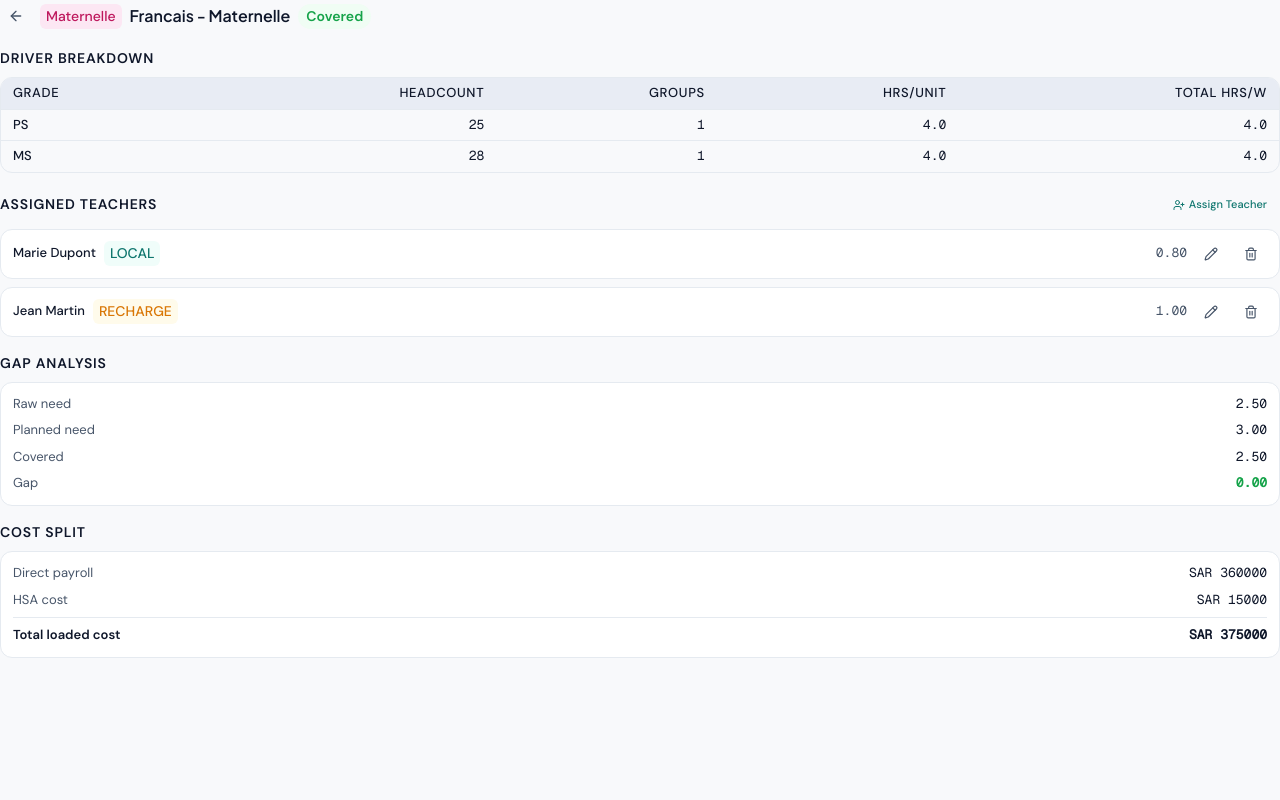
Test: StaffingInspectorContent › Assignment management (AC-15) › shows confirmation dialog when delete button is clicked
Click the button named "delete" next to "0.80": (1251, 254) [1235, 238, 1267, 270]
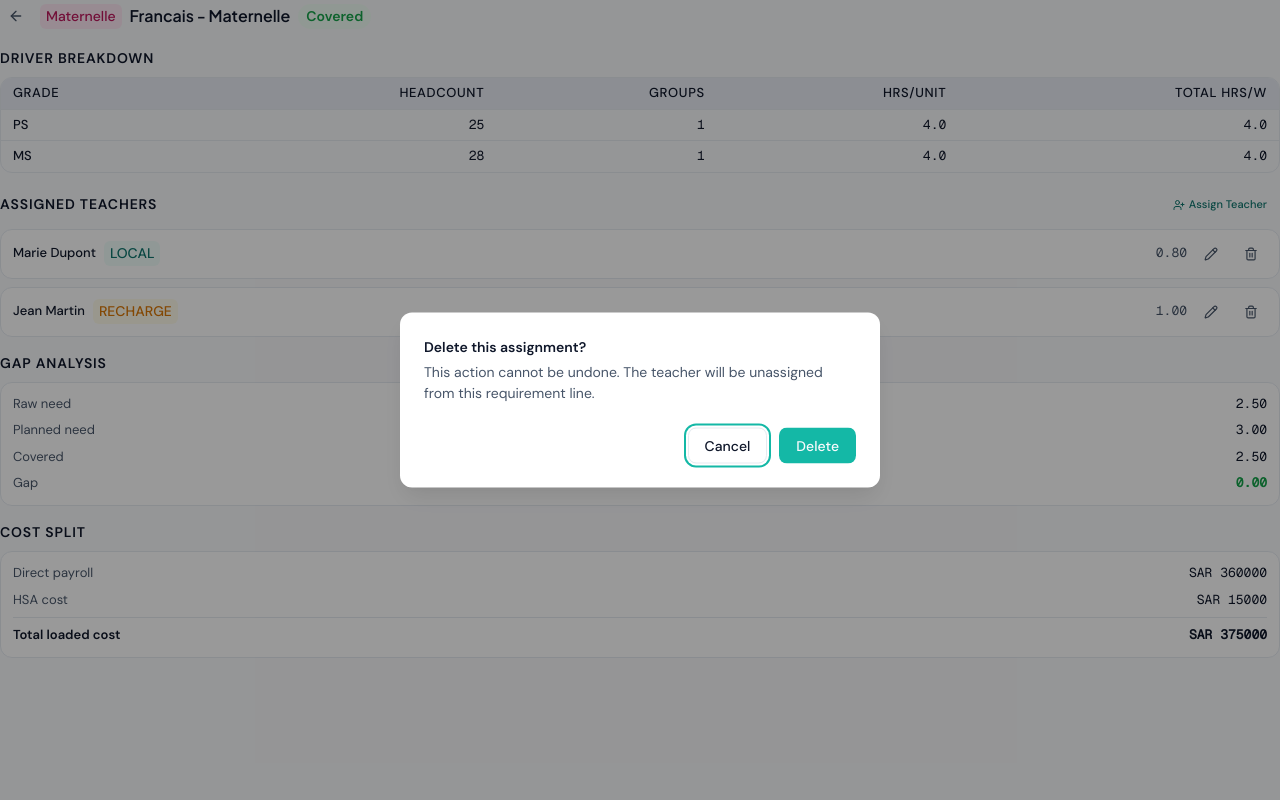
Check: the heading "Delete this assignment?" is shown, box [424, 338, 586, 356]
